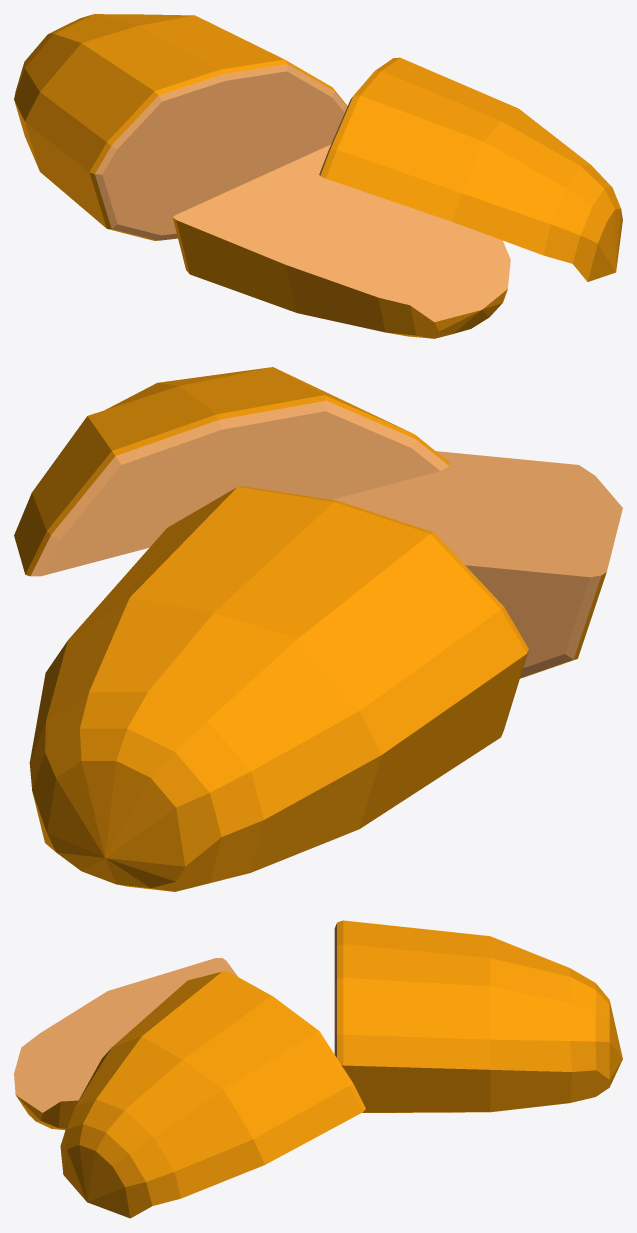
The model's file is SlicedBread_01.fbx.
3 views of the same model, one above another, from view 1: azimuth 30°, elevation 25°; view 2: azimuth 150°, elevation 25°; view 3: azimuth 270°, elevation 25° (orthographic). The views are drawn at different scales.
Parts seen in each view (by area): view 1: SlicedBread_01; view 2: SlicedBread_01; view 3: SlicedBread_01.
Part boxes in pixels (bbox=[...]): SlicedBread_01: bbox=[14, 14, 622, 338]; SlicedBread_01: bbox=[14, 367, 622, 891]; SlicedBread_01: bbox=[14, 920, 622, 1218].
Size of the model in its own units: 18.97 by 7.5 by 26.51.
